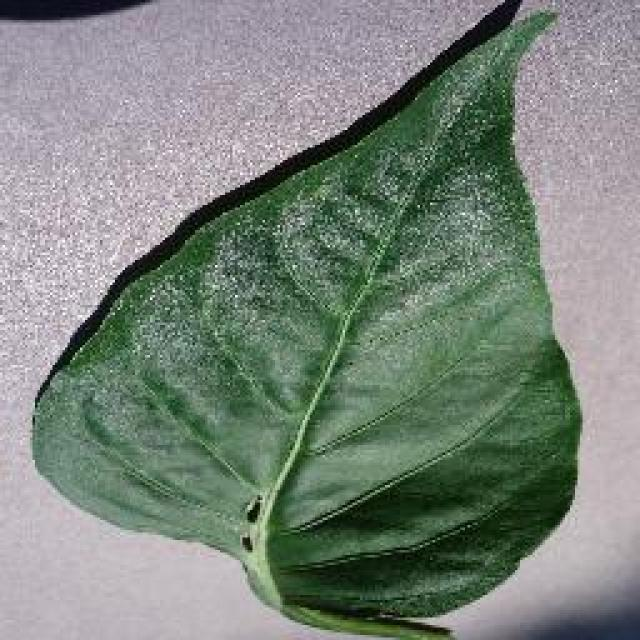Chilli_Healthy: (28, 0, 582, 638)
